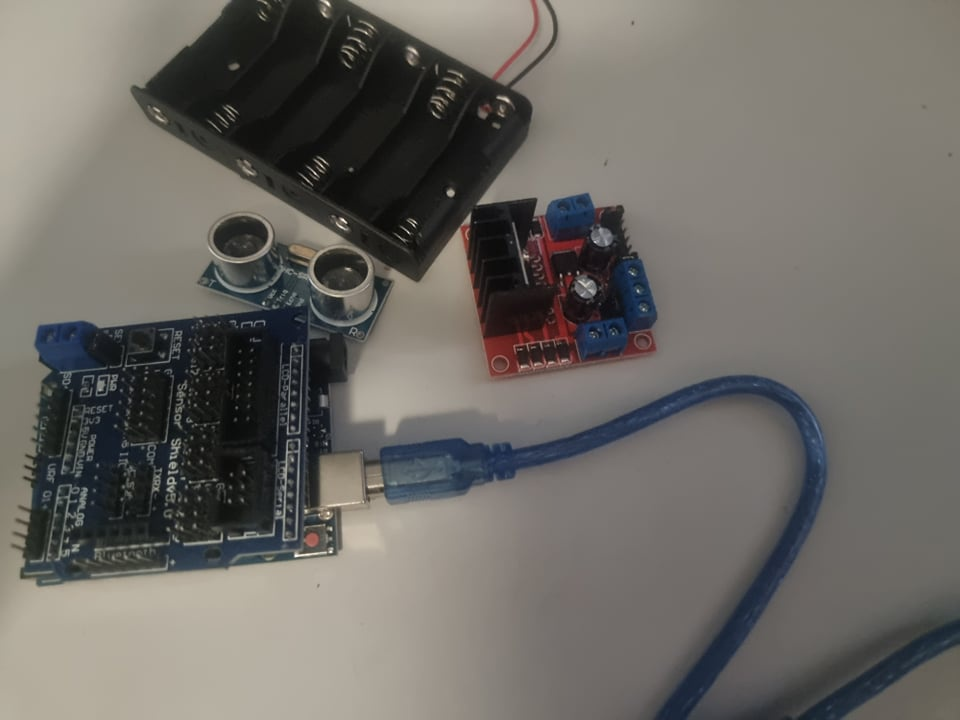5V EXPANSION: (15, 318, 308, 566)
BATTERY BOX: (120, 1, 538, 284)
MOTOR: (459, 205, 662, 377)
SENSOR: (195, 216, 396, 339)
UNO R3: (306, 335, 371, 563)
